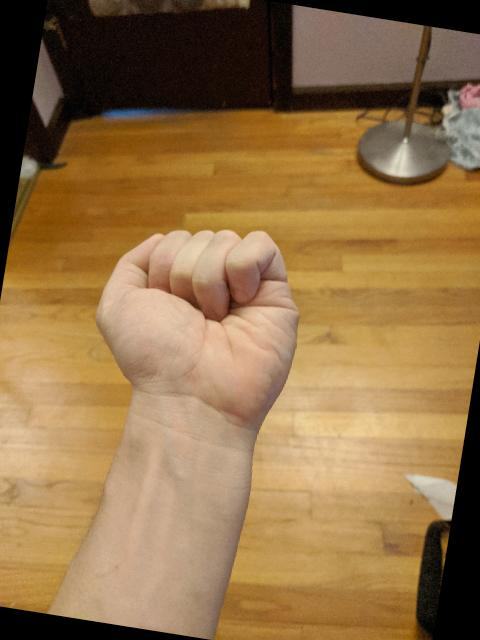A: (72, 198, 321, 442)
